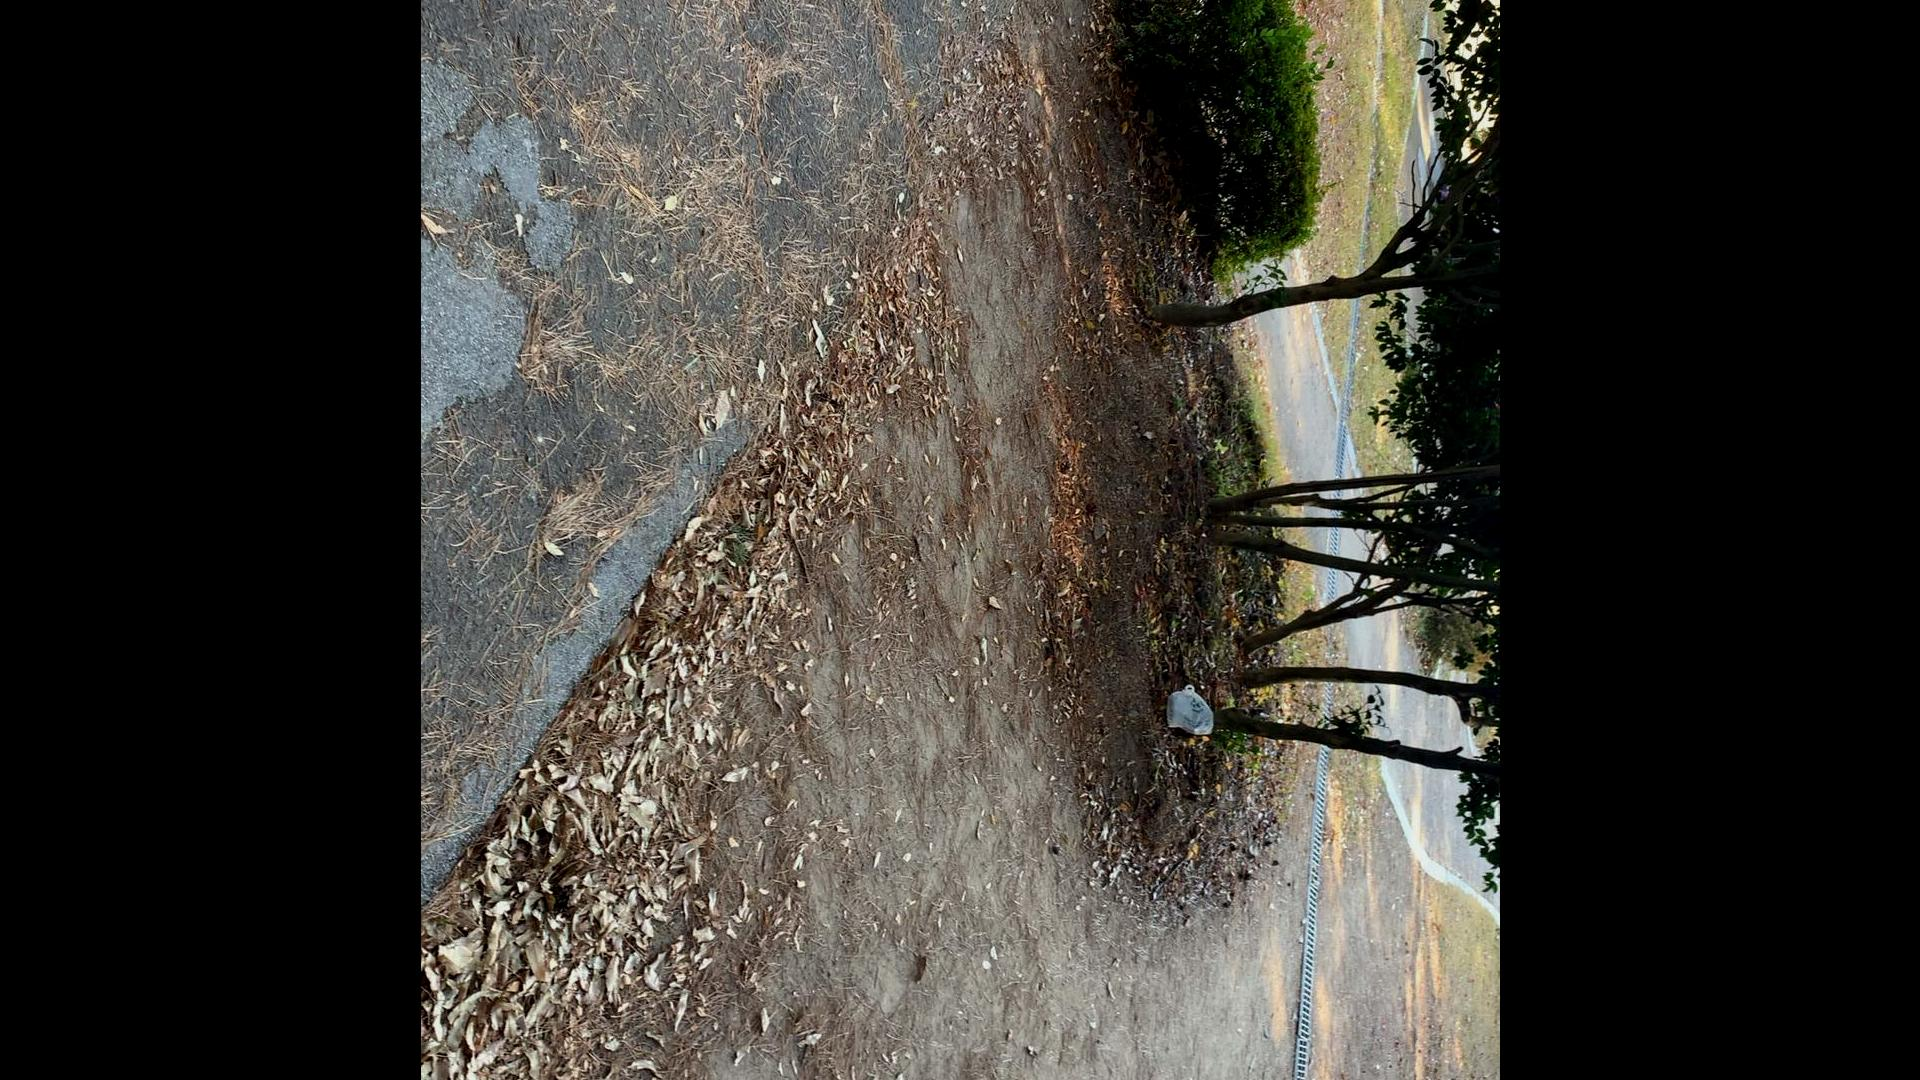white_bag: (1164, 682, 1217, 737)
